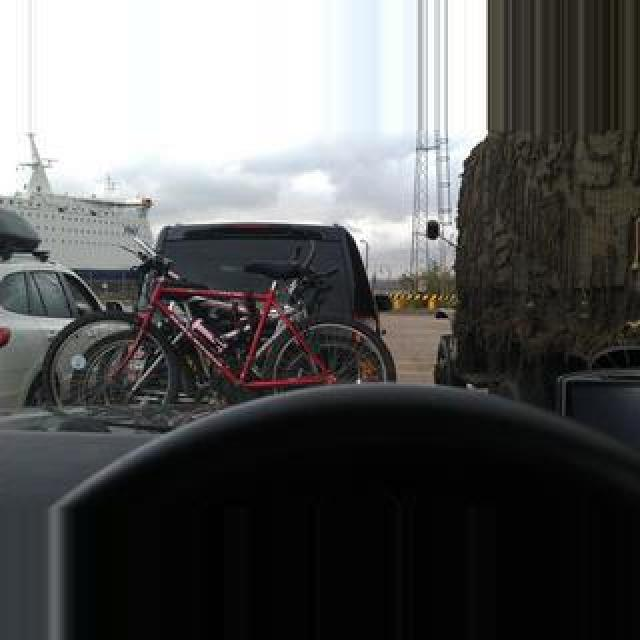Bus-Bike: (0, 256, 112, 412)
Person: (41, 225, 385, 411)
